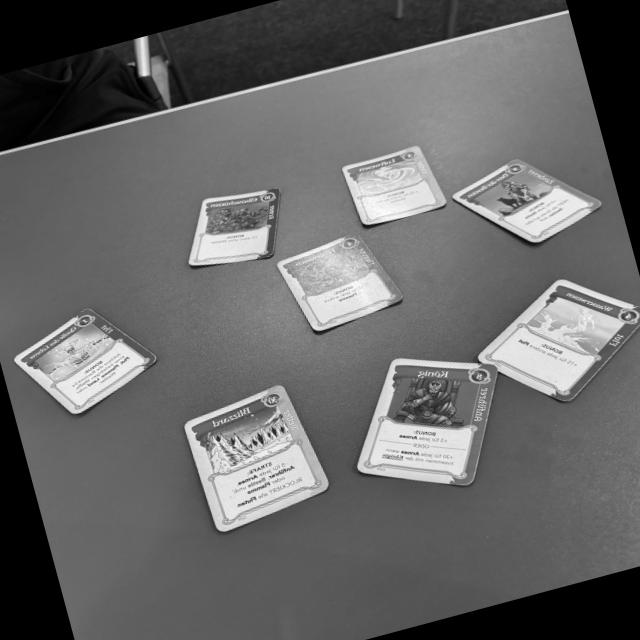Air Elemental: (343, 143, 449, 229)
Beast Master: (451, 155, 605, 247)
Blizzard: (184, 379, 335, 538)
Elven Archers: (187, 188, 281, 270)
Fire Elemental: (276, 230, 407, 336)
Fountain Of Life: (12, 302, 158, 419)
King: (356, 355, 501, 485)
Water Elemental: (475, 277, 640, 404)
